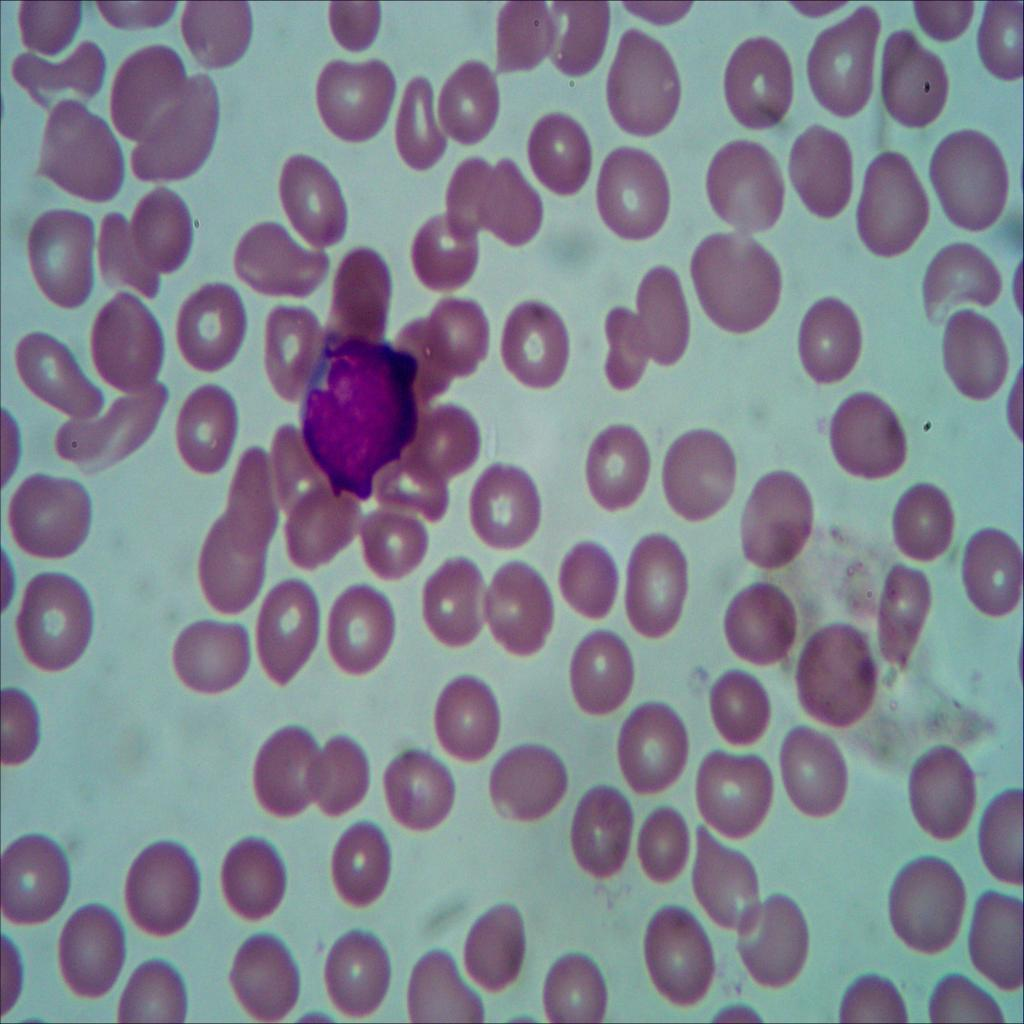Eritrosit: (686, 228, 788, 342), (788, 618, 881, 738), (895, 730, 984, 850), (624, 893, 719, 1005), (126, 76, 224, 184), (58, 381, 171, 474), (878, 842, 968, 956), (732, 463, 818, 579), (38, 102, 130, 210), (226, 217, 332, 309), (798, 2, 876, 127), (709, 568, 807, 666), (685, 820, 763, 943), (12, 566, 98, 676), (9, 328, 107, 424), (934, 126, 1019, 236), (734, 886, 816, 1000), (123, 832, 203, 946), (620, 696, 696, 816), (851, 148, 932, 260), (661, 418, 738, 534), (318, 916, 400, 1024), (690, 739, 778, 839), (774, 723, 857, 828), (103, 40, 185, 144), (605, 30, 682, 140), (820, 392, 911, 485), (310, 48, 396, 146), (91, 282, 170, 388), (596, 137, 676, 241), (706, 134, 787, 236), (697, 658, 782, 755), (0, 472, 98, 556), (622, 527, 690, 647), (869, 558, 937, 677), (937, 304, 1013, 410), (320, 244, 398, 346), (487, 742, 573, 834), (276, 148, 350, 254), (322, 582, 400, 682), (886, 468, 964, 568), (428, 666, 503, 769), (255, 576, 320, 694), (784, 118, 856, 224), (919, 227, 1006, 314), (631, 260, 699, 371), (0, 830, 75, 930), (55, 901, 127, 1005), (566, 784, 634, 894), (718, 35, 795, 132), (880, 22, 946, 135), (485, 560, 561, 658), (499, 294, 572, 396), (27, 208, 97, 314), (409, 555, 492, 644), (467, 458, 542, 556), (796, 294, 874, 388), (195, 506, 271, 601), (380, 744, 462, 832), (584, 412, 652, 518), (222, 932, 302, 1022), (354, 498, 433, 588), (398, 216, 487, 295), (218, 838, 294, 930), (172, 614, 255, 698), (481, 150, 548, 254), (954, 520, 1024, 618), (523, 110, 597, 202), (284, 488, 367, 570), (385, 66, 449, 172), (178, 281, 248, 376), (378, 449, 457, 533), (257, 296, 323, 396), (963, 884, 1024, 992), (254, 723, 323, 818), (403, 946, 487, 1024), (0, 43, 108, 103), (464, 901, 532, 996), (424, 288, 491, 384), (176, 379, 244, 473), (565, 631, 642, 714), (629, 801, 695, 896), (97, 212, 164, 303), (218, 446, 280, 544), (326, 818, 394, 907), (559, 531, 620, 630), (594, 298, 655, 397), (483, 0, 559, 79), (130, 190, 198, 278), (393, 311, 455, 406), (303, 734, 375, 814), (438, 57, 502, 147), (440, 148, 504, 238), (540, 945, 612, 1024), (175, 0, 256, 68), (548, 0, 611, 81), (271, 430, 330, 507), (420, 406, 481, 479)
Limfoblast: (297, 328, 423, 503)
